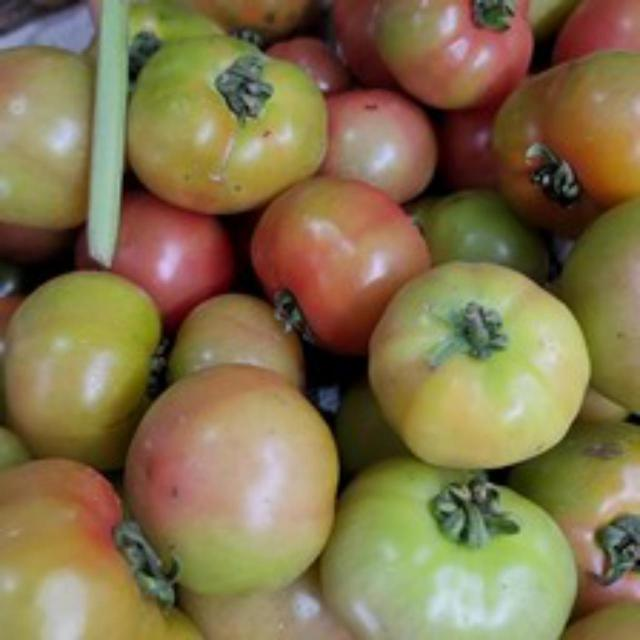tomato: (243, 175, 458, 348)
